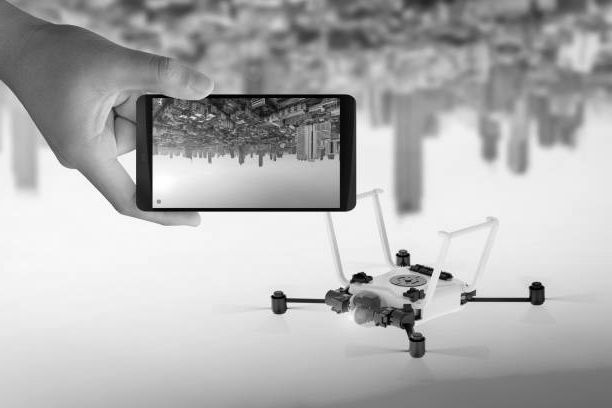Drone: (208, 234, 608, 363)
